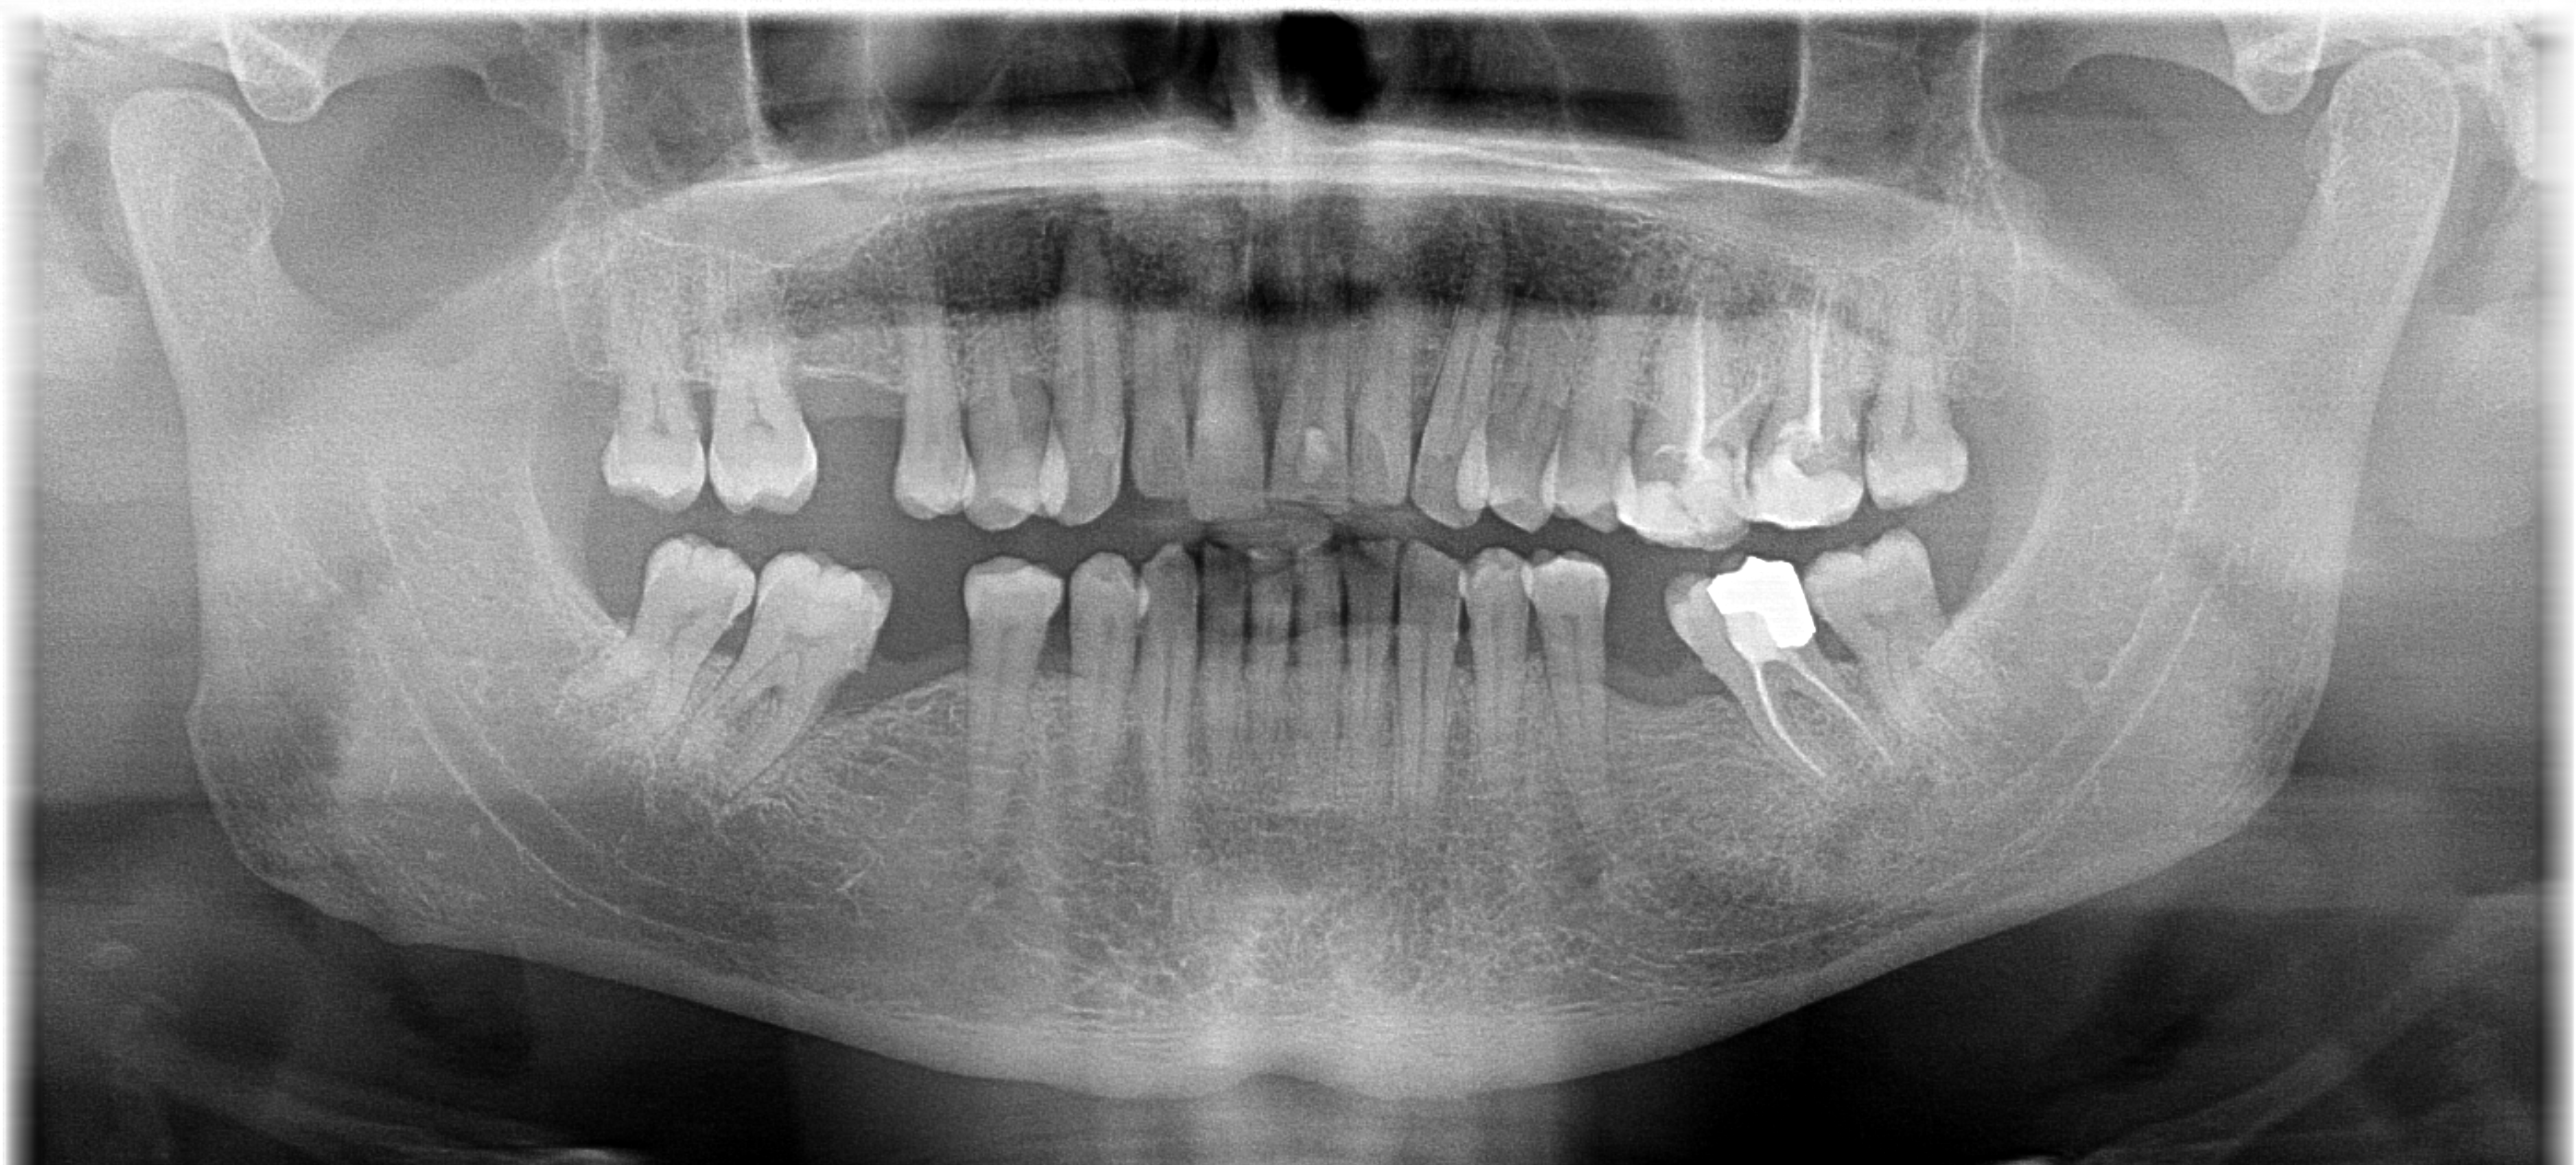apinamiento: (1396, 414, 1653, 544), (867, 431, 1130, 534)
cordal: (536, 504, 795, 741), (1773, 513, 2032, 749), (521, 296, 779, 532), (1806, 286, 2063, 523)
tratamiento_conducto: (1649, 534, 1911, 804), (1603, 278, 1776, 578), (1718, 243, 1883, 559)
zona_dentula: (767, 255, 948, 527), (810, 547, 991, 820), (1554, 542, 1735, 815)
